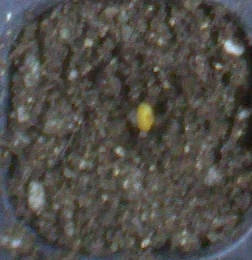pepper seed: (57, 35, 212, 169)
